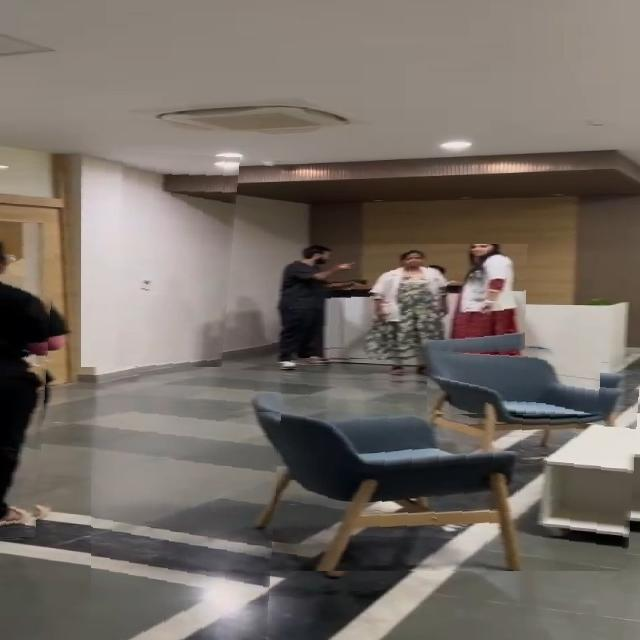floor: (91, 403, 281, 640)
furniture: (214, 373, 639, 571), (427, 337, 601, 414)
moving_object: (265, 244, 528, 364), (0, 236, 55, 537)
wall: (81, 148, 240, 367)
